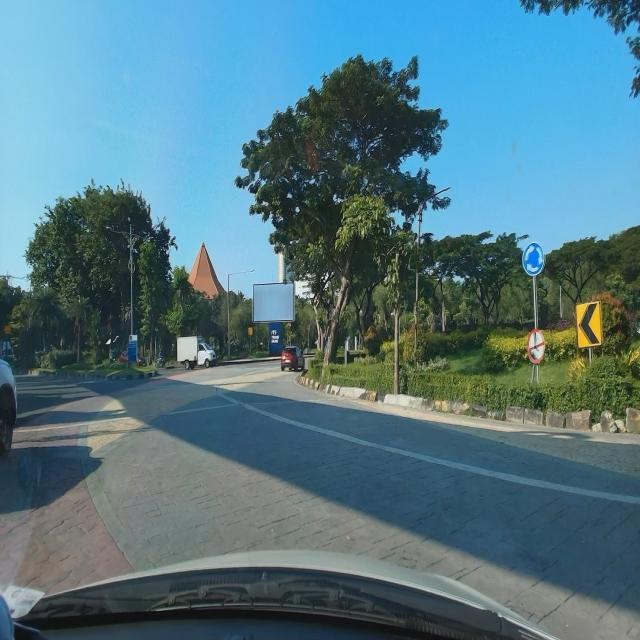car: (280, 346, 306, 372)
license-plate: (285, 359, 290, 363)
